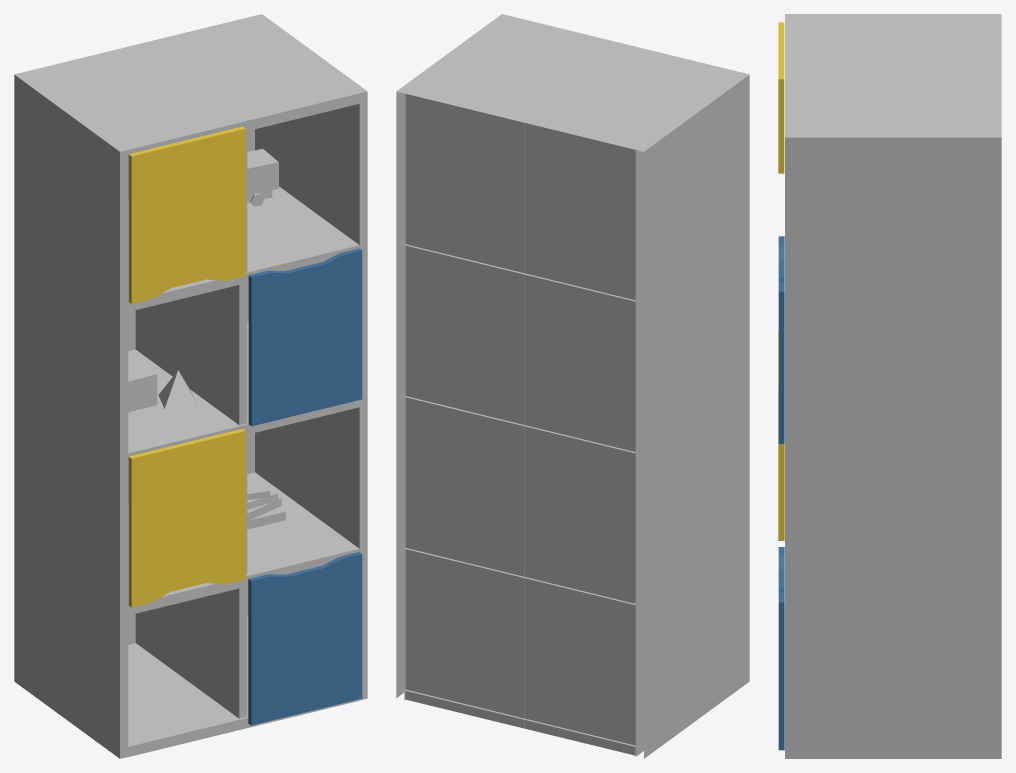
File: Cabort_M_02.fbx
The picture shows the model from 3 angles, left to right: view 1: azimuth 30°, elevation 25°; view 2: azimuth 150°, elevation 25°; view 3: azimuth 270°, elevation 25°; orthographic projection. The views are drawn at different scales.
Parts seen in each view (by area): view 1: cupboard_M, Yellow_shelf_M1, Yellow_shelf_M2, _blue_shelf_M1, _blue_shelf_M2, contents_M; view 2: cupboard_M; view 3: cupboard_M, _blue_shelf_M1, _blue_shelf_M2, Yellow_shelf_M2, Yellow_shelf_M1.
Part boxes in pixels (bbox=[...]): cupboard_M: bbox=[14, 14, 367, 758]; Yellow_shelf_M1: bbox=[128, 428, 245, 607]; Yellow_shelf_M2: bbox=[128, 126, 245, 303]; _blue_shelf_M1: bbox=[248, 248, 362, 426]; _blue_shelf_M2: bbox=[248, 552, 362, 725]; contents_M: bbox=[128, 149, 285, 529]; cupboard_M: bbox=[396, 14, 749, 758]; cupboard_M: bbox=[785, 14, 1001, 758]; _blue_shelf_M1: bbox=[778, 236, 784, 443]; _blue_shelf_M2: bbox=[778, 547, 784, 750]; Yellow_shelf_M2: bbox=[778, 22, 784, 173]; Yellow_shelf_M1: bbox=[778, 332, 784, 540].
Bounding box in the file's own units: 66.39 × 156 × 50.66.
